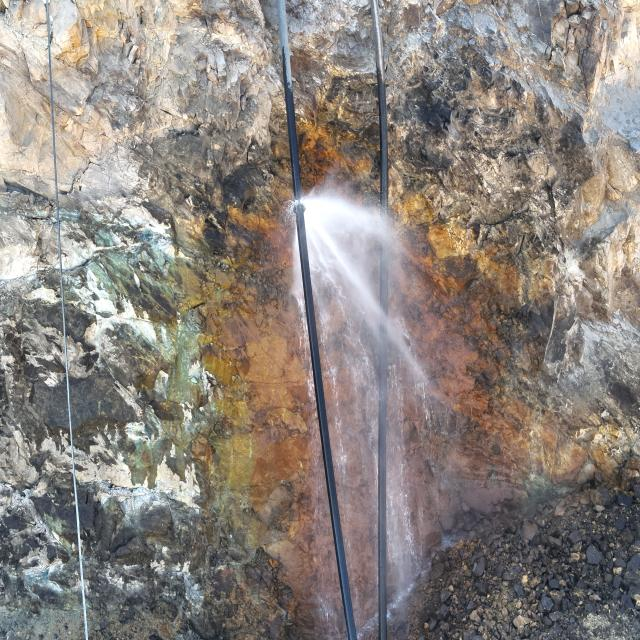leak: (278, 161, 435, 640)
